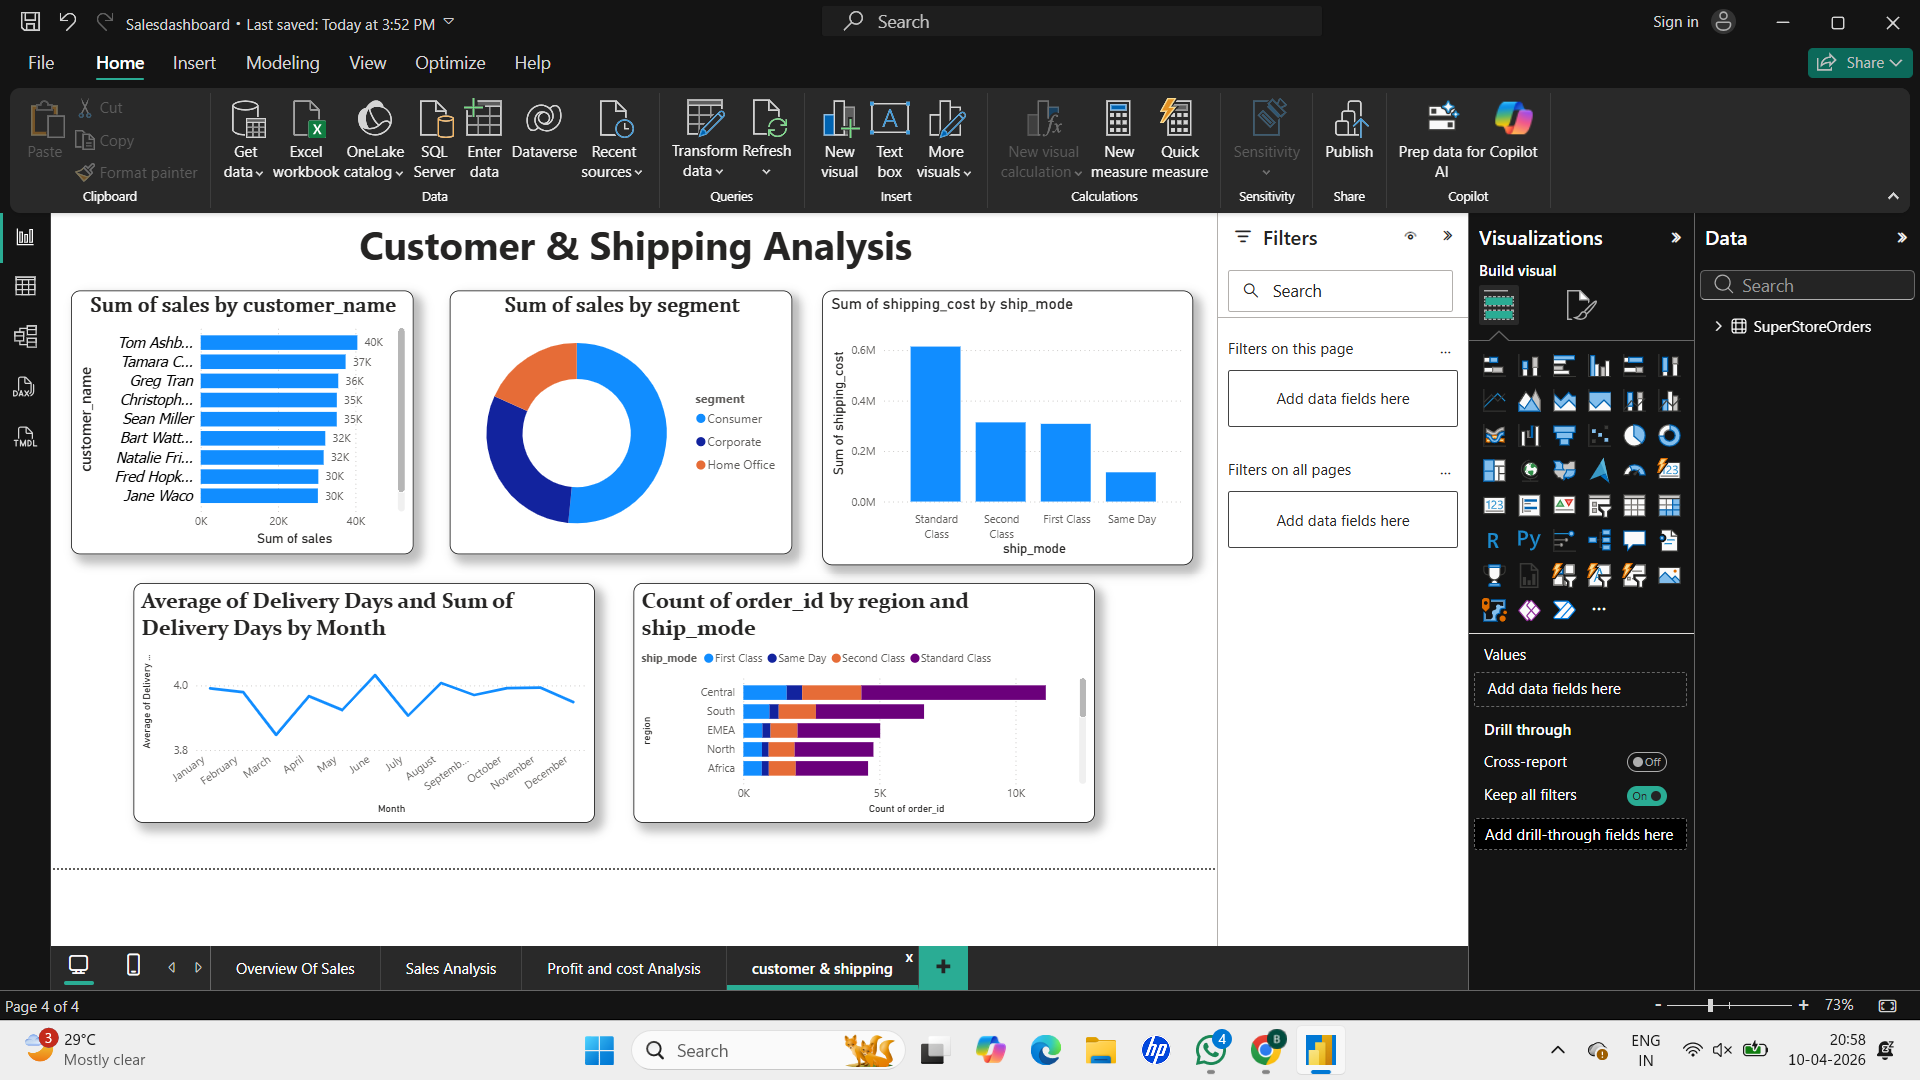

This screenshot's page, from the dashboard's own definition file:
{"tool":"powerbi","page":{"name":"customer & shipping","canvas":[1280,720],"ordinal":3},"visuals":[{"type":"clusteredColumnChart","fields":{"Category":["SuperStoreOrders.ship_mode"],"Y":["Sum(SuperStoreOrders.shipping_cost)"]},"box":[846.7,85.1,407.5,301.9],"z":0},{"type":"barChart","fields":{"Category":["SuperStoreOrders.region"],"Y":["CountNonNull(SuperStoreOrders.order_id)"],"Series":["SuperStoreOrders.ship_mode"]},"box":[639.5,406.2,506.3,263.5],"z":1000},{"type":"textbox","box":[333.4,0,672.4,72.7],"z":2000},{"type":"donutChart","fields":{"Category":["SuperStoreOrders.segment"],"Y":["Sum(SuperStoreOrders.sales)"]},"box":[437.7,85.1,376,289.5],"z":3000},{"type":"barChart","fields":{"Category":["SuperStoreOrders.customer_name"],"Y":["Sum(SuperStoreOrders.sales)"]},"box":[22,85.1,376,289.5],"z":4000},{"type":"lineChart","fields":{"Category":["SuperStoreOrders.order_date.Variation.Date Hierarchy.Month"],"Y":["Avg(SuperStoreOrders.Delivery Days)"]},"box":[90.6,406.2,506.3,263.5],"z":5000}]}

Visuals, with their boxes on the page's 1280x720 design canvas (x1, y1, x2, y2). These are canvas units, not pixel positions in the 1920x1080 screenshot, which may show the page scaled, cropped or inside an application window:
clusteredColumnChart - SuperStoreOrders.ship_mode x Sum(SuperStoreOrders.shipping_cost): crop(847, 85, 1254, 387)
barChart - SuperStoreOrders.region x CountNonNull(SuperStoreOrders.order_id): crop(640, 406, 1146, 670)
textbox: crop(333, 0, 1006, 73)
donutChart - SuperStoreOrders.segment x Sum(SuperStoreOrders.sales): crop(438, 85, 814, 375)
barChart - SuperStoreOrders.customer_name x Sum(SuperStoreOrders.sales): crop(22, 85, 398, 375)
lineChart - SuperStoreOrders.order_date.Variation.Date Hierarchy.Month x Avg(SuperStoreOrders.Delivery Days): crop(91, 406, 597, 670)
